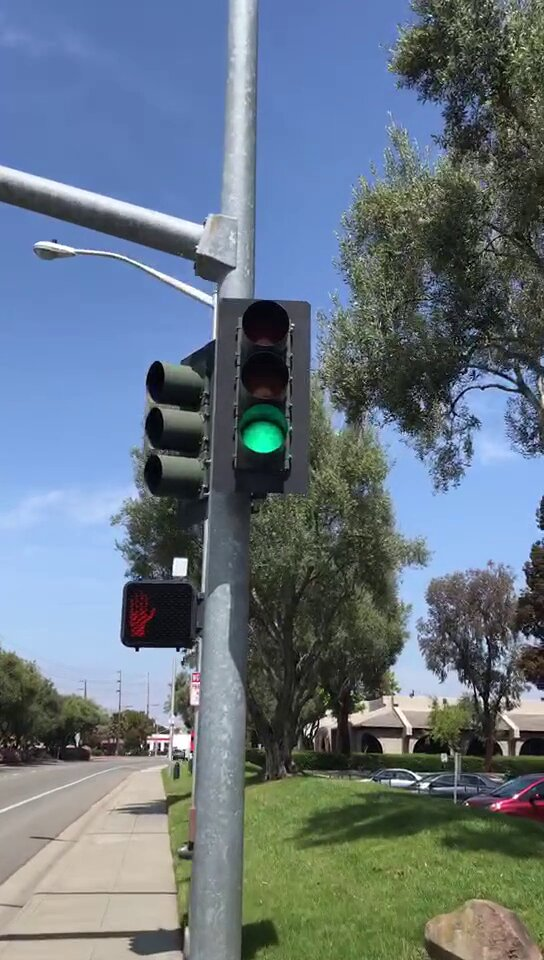green_light: (225, 302, 309, 480)
